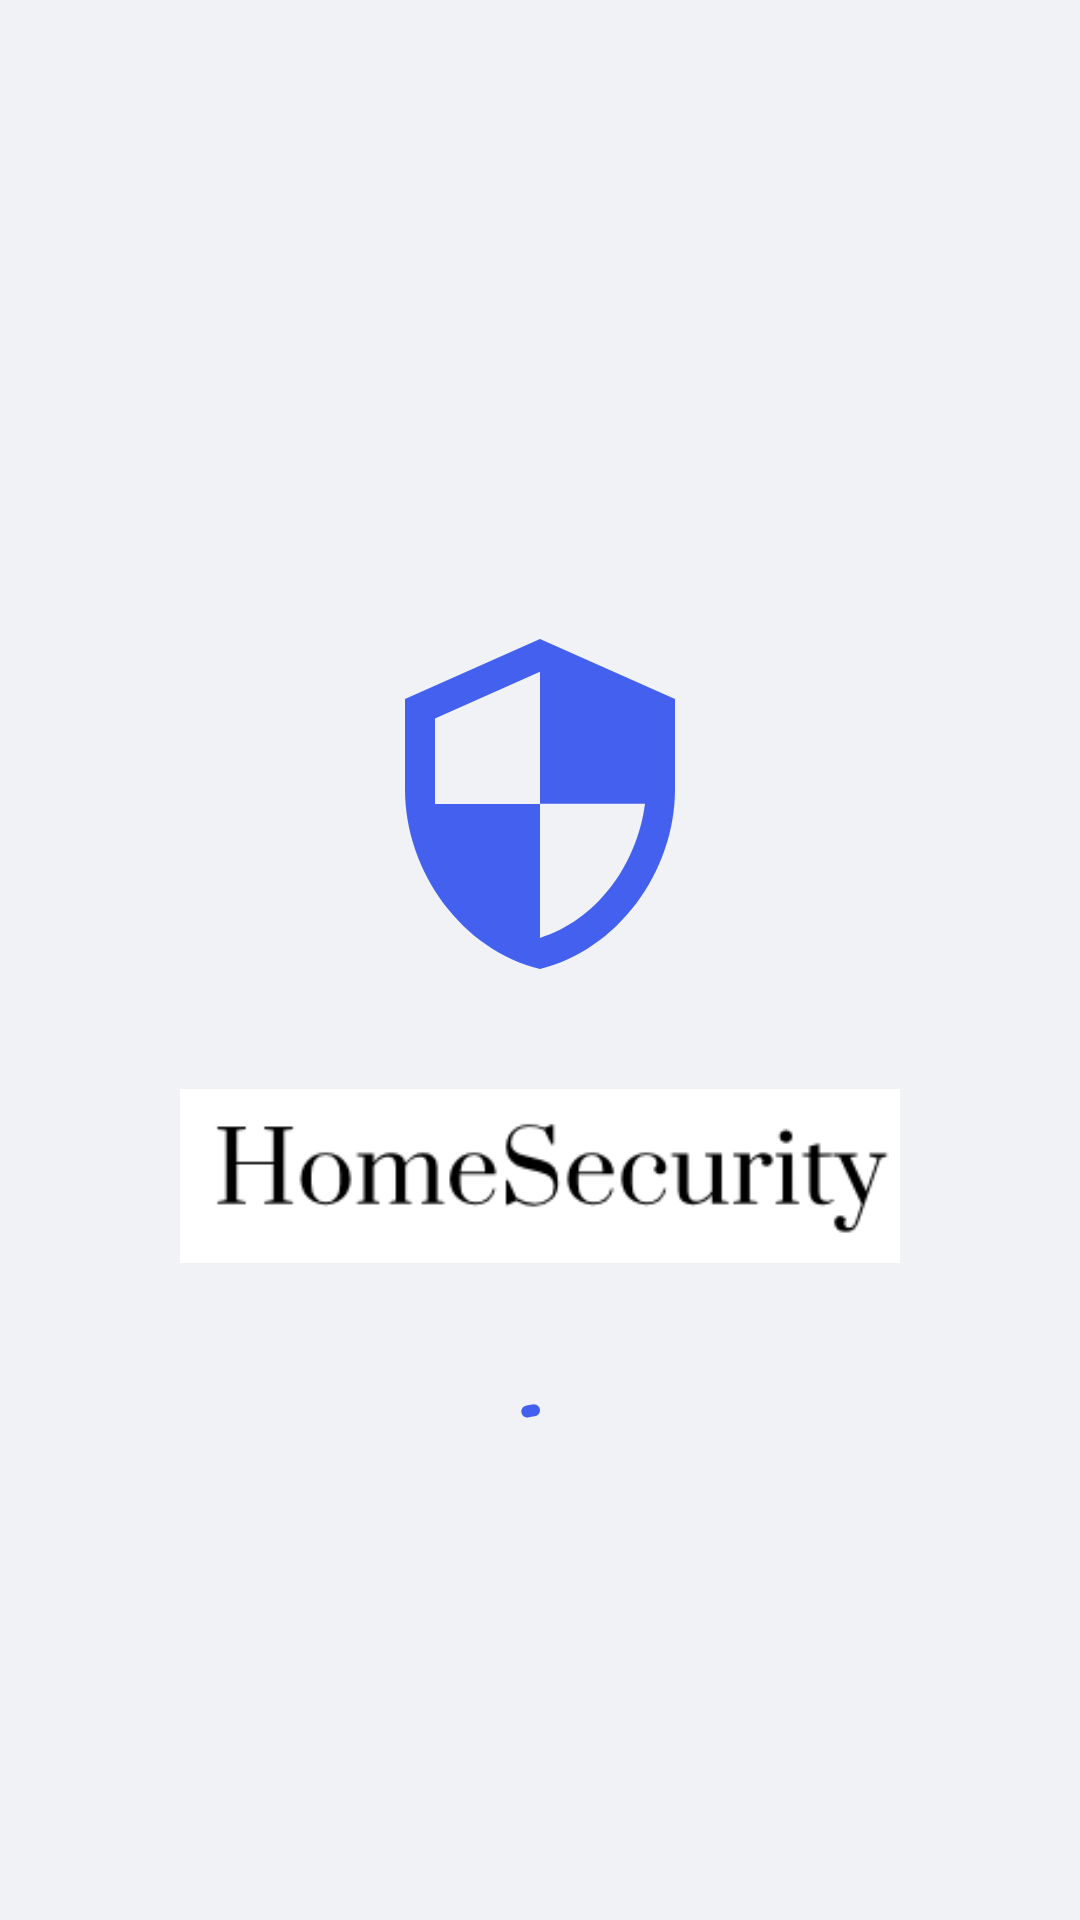

Named icons in this screenshot (1080 x 1920) and their bounding boxes, (x1, y1, x2, y2):
shield: (405, 639, 675, 969)
